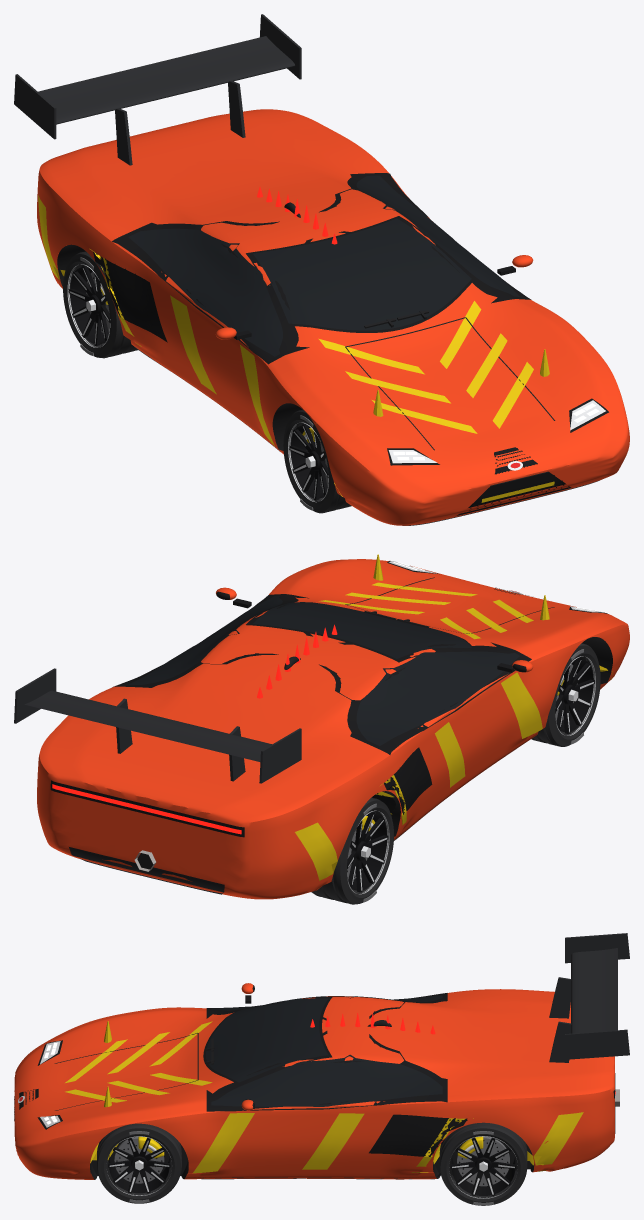
Rendered from kasai.glb.
3 views of the same model, one above another, from view 1: azimuth 30°, elevation 25°; view 2: azimuth 150°, elevation 25°; view 3: azimuth 270°, elevation 25° (orthographic). The views are drawn at different scales.
Visible parts, largest first — view 1: Body, Wheel_RR, Wheel_FR; view 2: Body, Wheel_RR, Wheel_FR; view 3: Body, Wheel_RL, Wheel_FL.
Part boxes in pixels (left/top/right/bottom): Body: left=14, top=14, right=629, bottom=525; Wheel_RR: left=63, top=251, right=137, bottom=358; Wheel_FR: left=283, top=409, right=351, bottom=513; Body: left=14, top=554, right=629, bottom=899; Wheel_RR: left=311, top=797, right=393, bottom=904; Wheel_FR: left=531, top=643, right=600, bottom=746; Body: left=14, top=933, right=629, bottom=1179; Wheel_RL: left=439, top=1122, right=527, bottom=1205; Wheel_FL: left=97, top=1123, right=181, bottom=1203.
Size of the model in its own units: 2.35 by 1.5 by 4.92.
